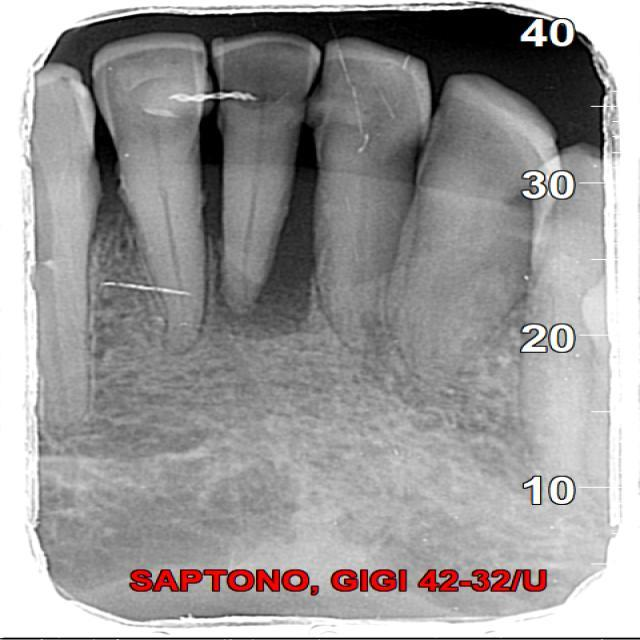individual-tooth-8tto: (384, 70, 566, 373), (91, 33, 217, 345), (303, 43, 425, 330), (211, 25, 318, 304)
